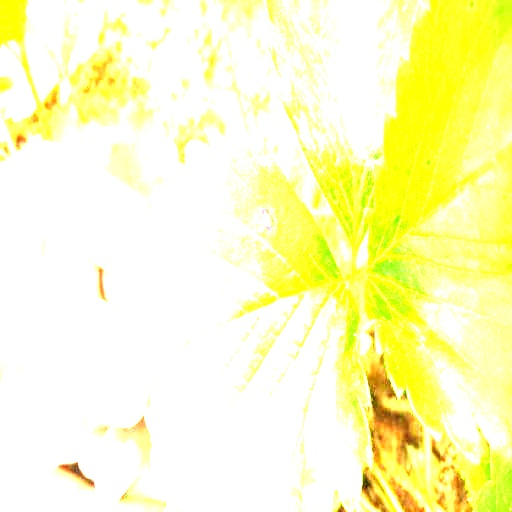Leaf Spot: (135, 129, 373, 511), (365, 0, 511, 466)
